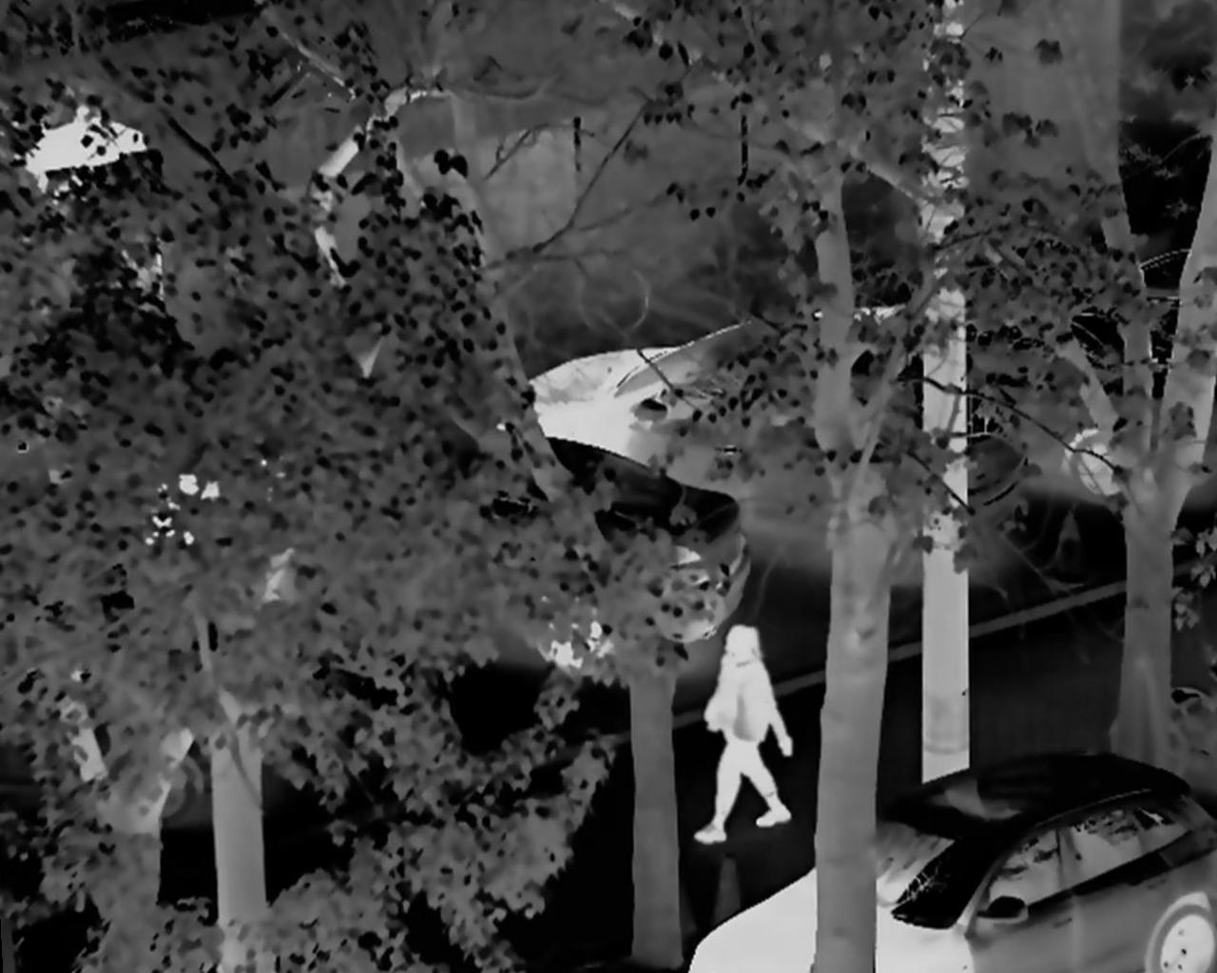person: (699, 627, 797, 845)
